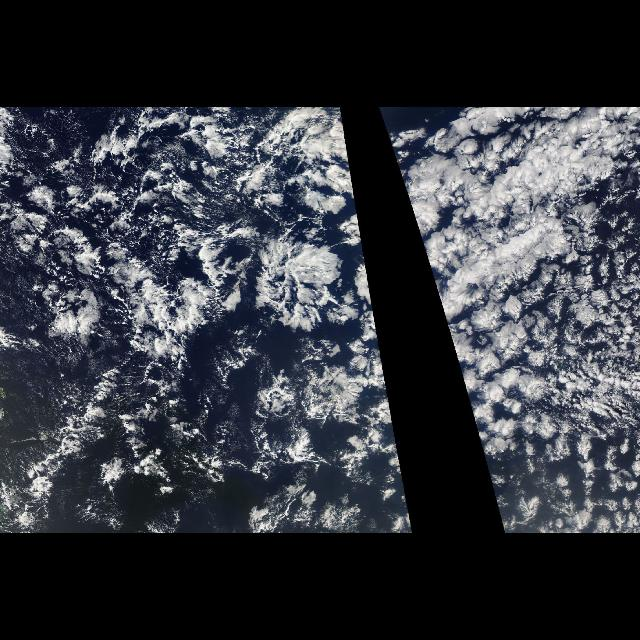Flower: (427, 261, 638, 533), (252, 261, 412, 533)
Gravel: (0, 110, 240, 260)
